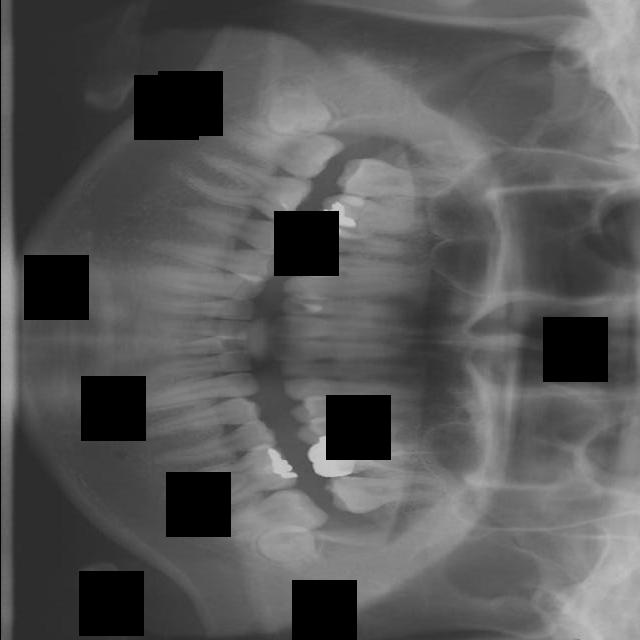52: (251, 161, 320, 233), (237, 434, 303, 503), (310, 189, 377, 243), (305, 433, 357, 480), (282, 294, 328, 316)
73: (349, 435, 449, 482)
BioHorizons Implant: (324, 470, 453, 516)
Biomet 3i Implant: (251, 512, 338, 583)
Blue Sky Bio Implant: (209, 483, 329, 548)
Caries: (334, 158, 473, 197)
Implant: (220, 116, 345, 187)
Keystone Dental Implant: (264, 69, 336, 143)
